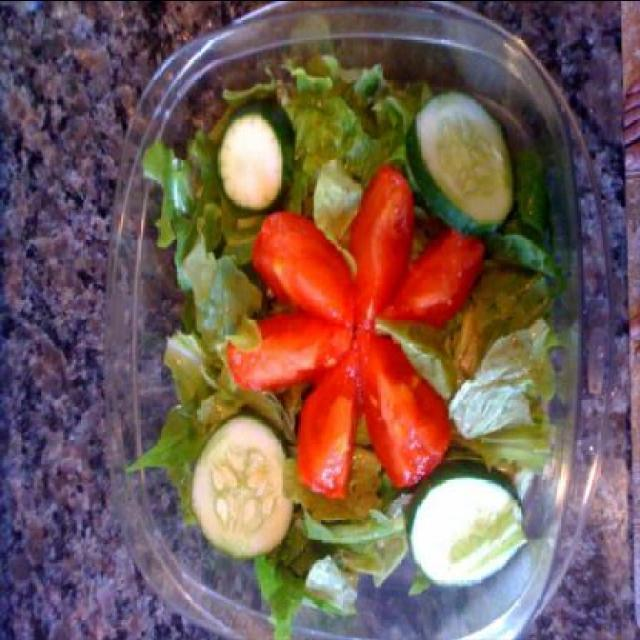Cucumber: (402, 90, 512, 238), (190, 406, 293, 563), (404, 460, 526, 586), (408, 90, 512, 236), (414, 452, 522, 590), (222, 97, 298, 215), (218, 97, 292, 209)
